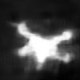plane: (11, 19, 77, 73)
